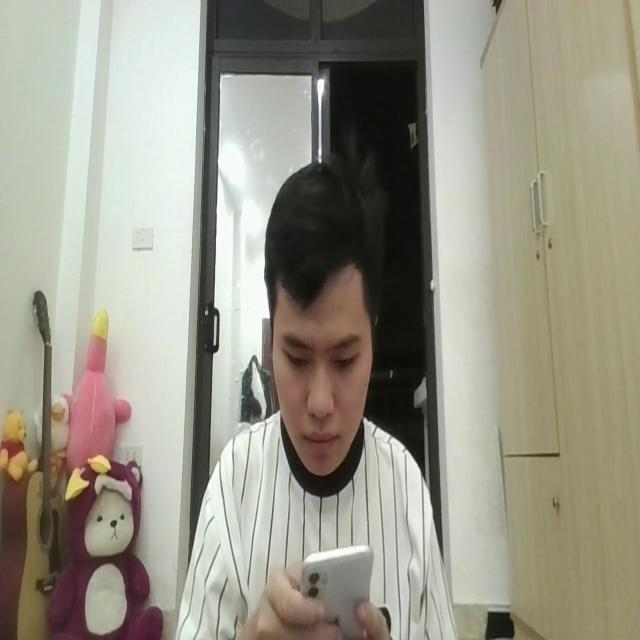phone: (303, 538, 373, 640)
student: (176, 157, 450, 640)
